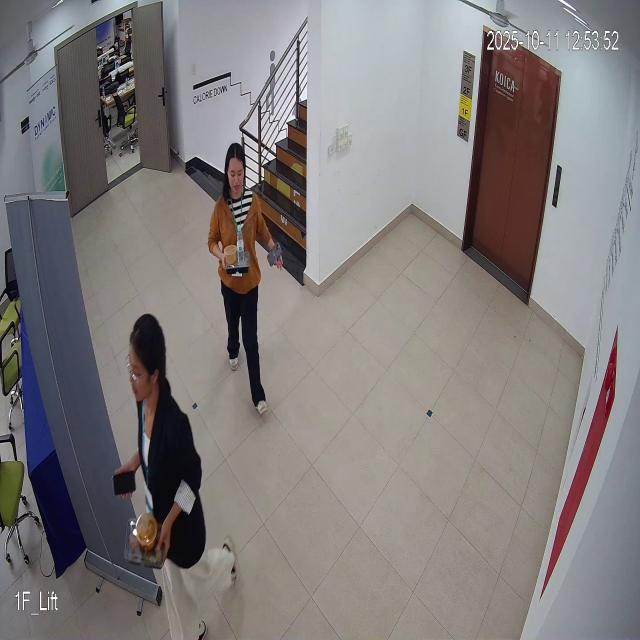face: (219, 138, 252, 200)
